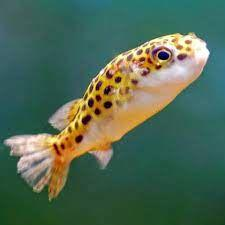Green Spotted Puffer: (7, 32, 210, 202)
